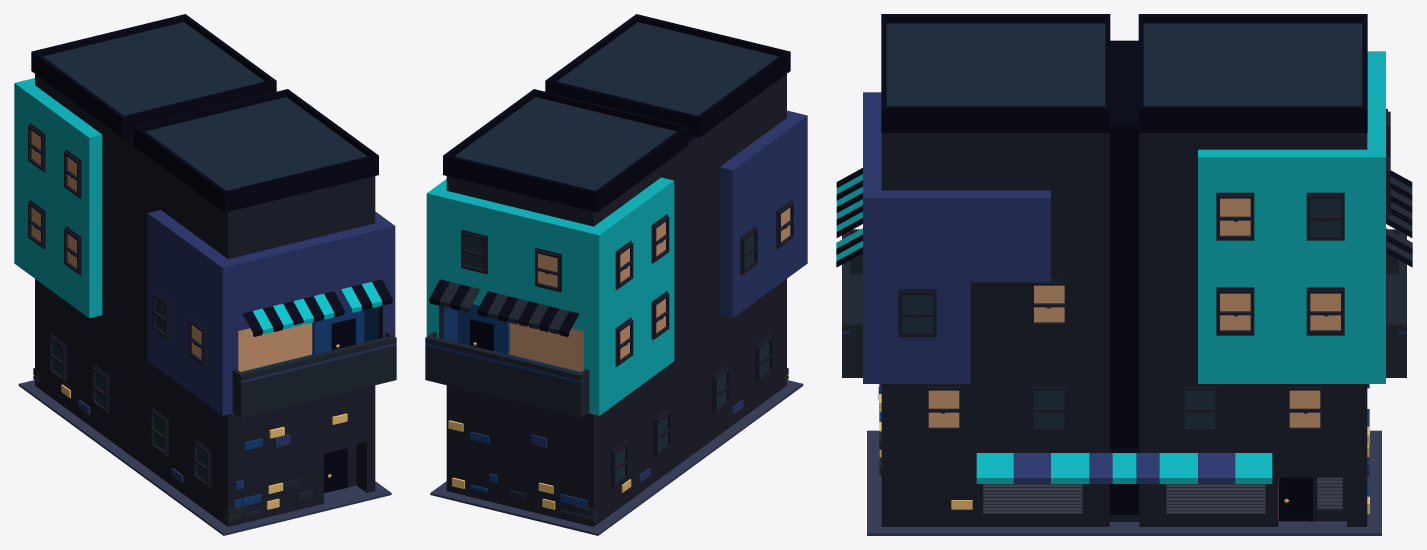
File: Building_MintApartment01.fbx
3 renders of one model, left to right at view 1: azimuth 30°, elevation 25°; view 2: azimuth 150°, elevation 25°; view 3: azimuth 270°, elevation 25°, orthographic. The views are drawn at different scales.
Visible parts, largest first — view 1: Cube.765, Cube.767, Cube.768; view 2: Cube.765, Cube.769; view 3: Cube.765, Cube.766.
Boxes of the visible parts, x1,y1,x2,y2 form: Cube.765: (14,14,396,535); Cube.767: (324,448,347,493); Cube.768: (331,318,355,350); Cube.765: (425,14,807,535); Cube.769: (470,319,493,351); Cube.765: (836,14,1412,535); Cube.766: (1278,477,1312,521).
Bounding box in the file's own units: 671 × 1211 × 1495.
